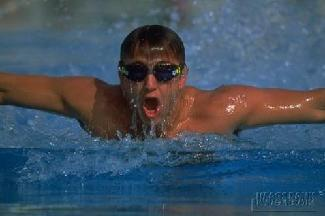swimmer: (0, 24, 325, 145)
